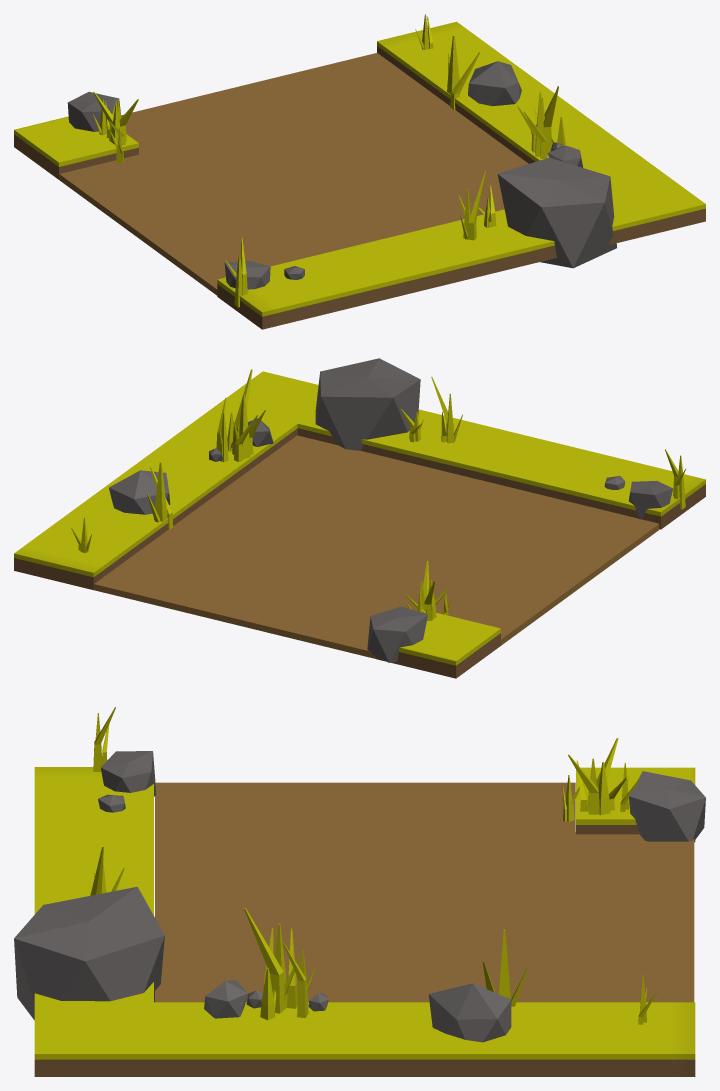
File: COINS CHEMIN.fbx
3 views of the same model, one above another, from view 1: azimuth 30°, elevation 25°; view 2: azimuth 150°, elevation 25°; view 3: azimuth 270°, elevation 25° (orthographic). The views are drawn at different scales.
Visible parts, largest first — view 1: Stone_1.001; view 2: Stone_1.001; view 3: Stone_1.001.
Boxes of the visible parts, <box> form: Stone_1.001: <box>14,14,705,329</box>; Stone_1.001: <box>14,358,705,678</box>; Stone_1.001: <box>14,707,705,1076</box>.
Bounding box in the file's own units: 400 × 100 × 400.
